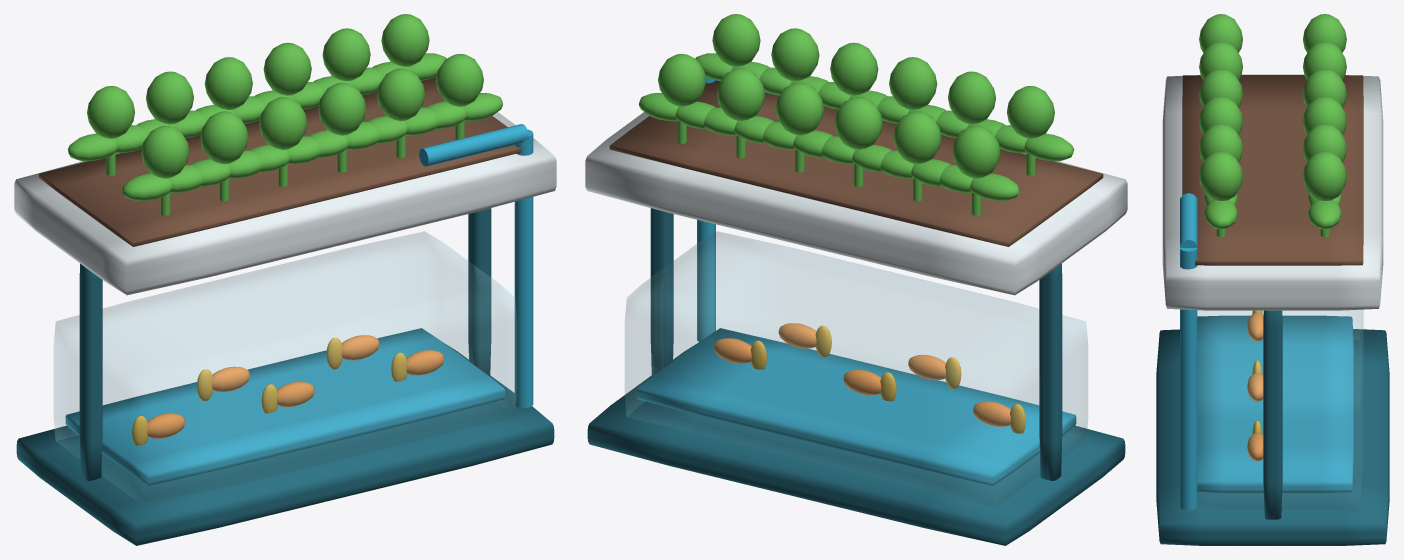
File: acuaponia.glb
The picture shows the model from 3 angles, left to right: view 1: azimuth 30°, elevation 25°; view 2: azimuth 150°, elevation 25°; view 3: azimuth 270°, elevation 25°; orthographic projection. The views are drawn at different scales.
Parts seen in each view (by area): view 1: Cristal, Verde, Petroleo, Agua, Blanco, Tierra, Naranja, Amarillo; view 2: Cristal, Verde, Petroleo, Agua, Blanco, Tierra, Naranja, Amarillo; view 3: Cristal, Agua, Petroleo, Tierra, Blanco, Verde, Naranja.
Boxes of the visible parts, left/top/right/bottom form: Cristal: left=54, top=231, right=516, bottom=506; Verde: left=67, top=14, right=502, bottom=215; Petroleo: left=16, top=208, right=554, bottom=545; Agua: left=65, top=124, right=533, bottom=485; Blanco: left=14, top=112, right=556, bottom=295; Tierra: left=38, top=77, right=521, bottom=246; Naranja: left=147, top=335, right=444, bottom=438; Amarillo: left=132, top=337, right=407, bottom=445; Cristal: left=625, top=231, right=1087, bottom=506; Verde: left=639, top=14, right=1074, bottom=215; Petroleo: left=587, top=208, right=1125, bottom=545; Agua: left=636, top=77, right=1076, bottom=485; Blanco: left=585, top=112, right=1127, bottom=295; Tierra: left=609, top=80, right=1103, bottom=246; Naranja: left=714, top=323, right=1010, bottom=426; Amarillo: left=750, top=325, right=1026, bottom=433; Cristal: left=1187, top=310, right=1363, bottom=511; Agua: left=1180, top=193, right=1353, bottom=510; Petroleo: left=1156, top=310, right=1389, bottom=545; Tierra: left=1182, top=75, right=1363, bottom=265; Blanco: left=1162, top=74, right=1383, bottom=310; Verde: left=1199, top=14, right=1346, bottom=237; Naranja: left=1247, top=312, right=1263, bottom=461.
Bounding box in the file's own units: 5.36 × 4.52 × 2.61.
